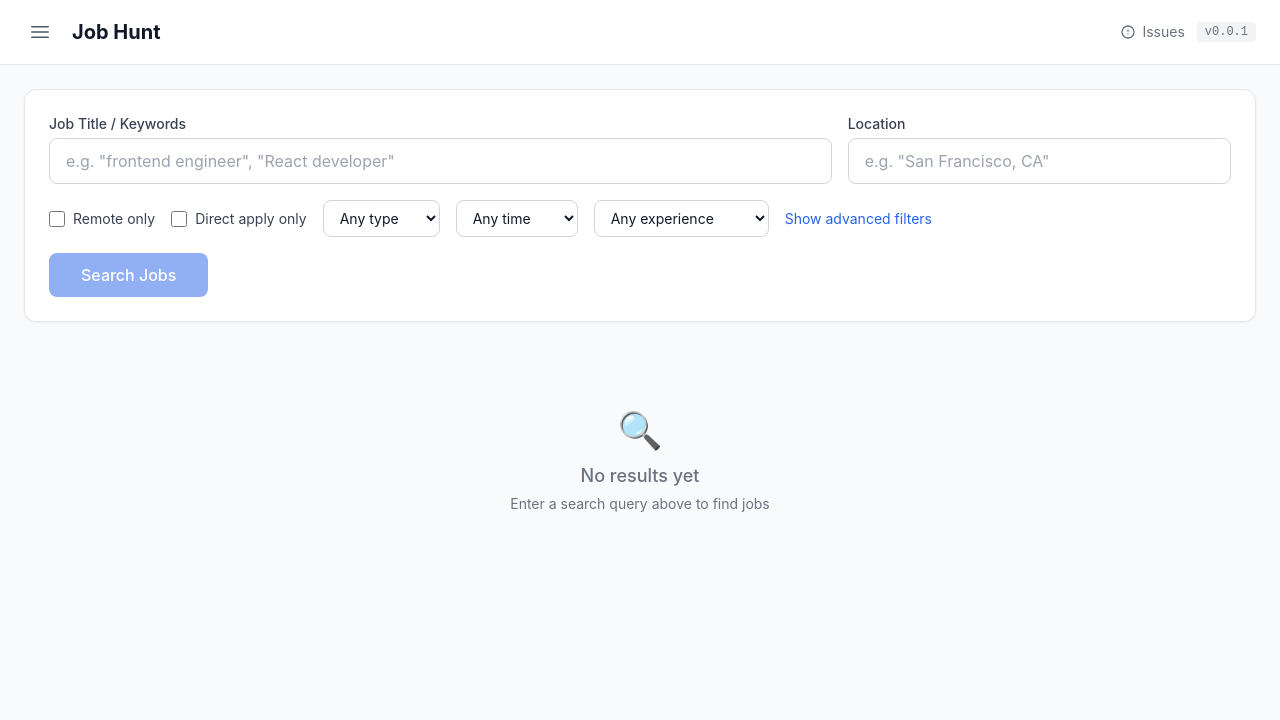
Scenario: App › switches to saved view via sidebar
Click the button with test id "hamburger-button" at (40, 32), box [24,16,56,48]
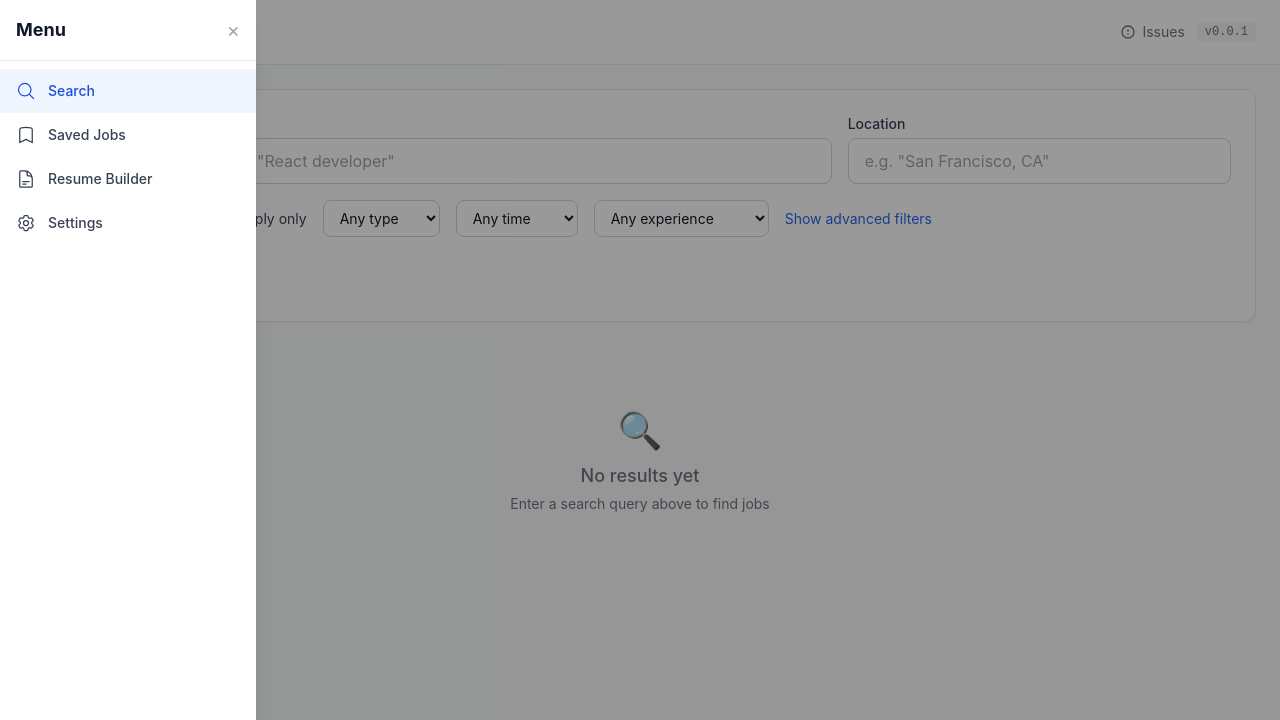
Click the button "Saved Jobs" at (128, 135), box [0,113,256,157]
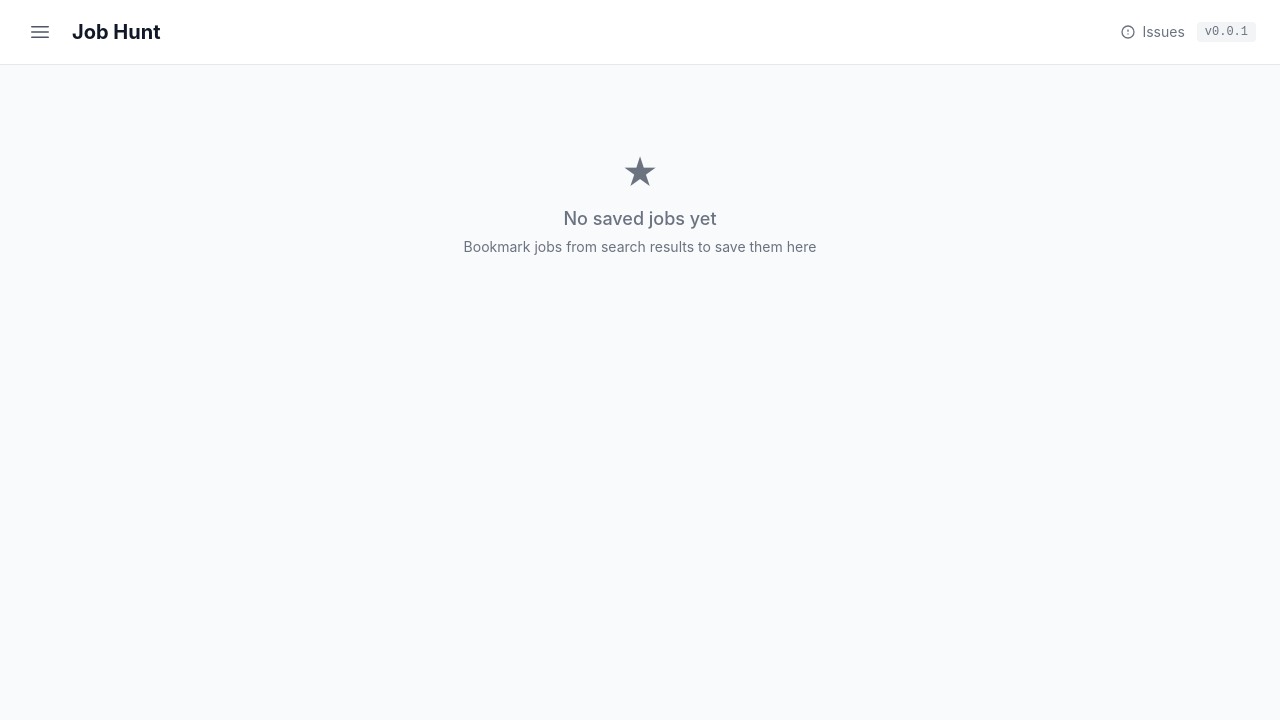
Result: the text "No saved jobs yet" is shown at [563,208,717,229]
